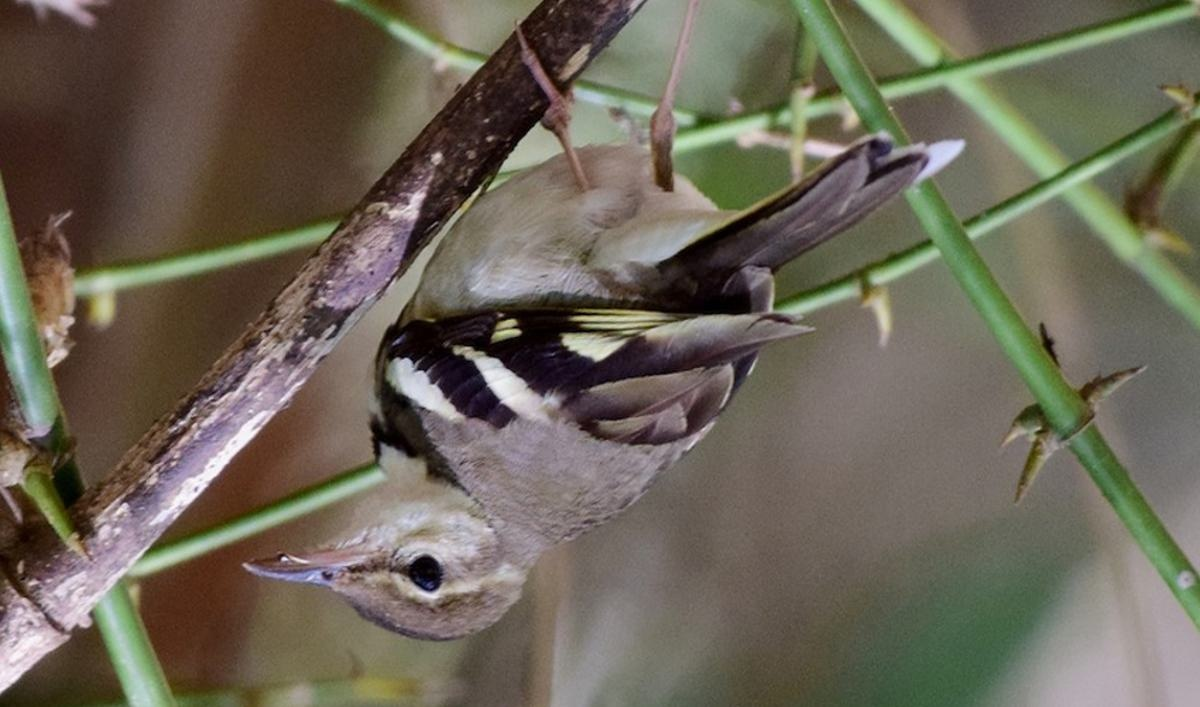wagtail: (237, 105, 879, 630)
